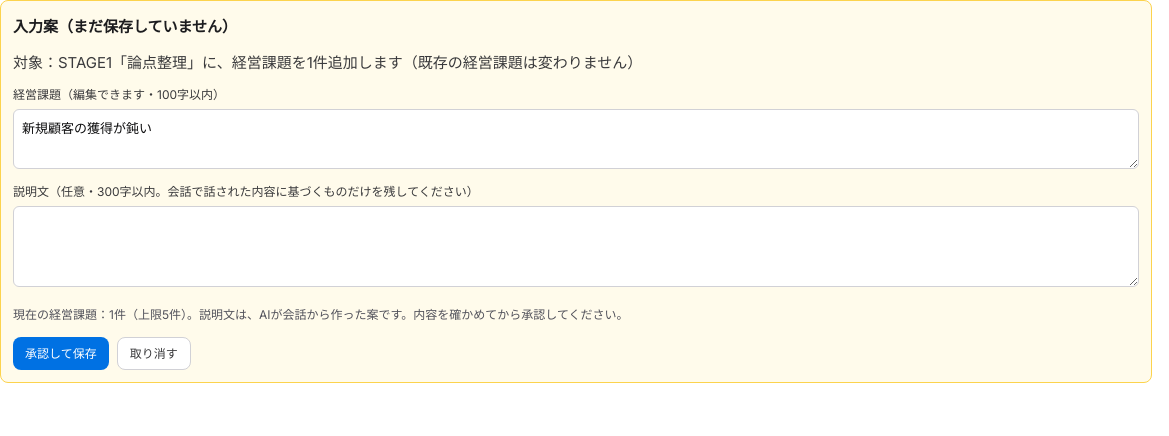
Test: 入力案の承認：STAGE1 経営課題の追加 › 保存に失敗したら、成功と伝えず、入力案を残す
Click the button "承認して保存" at (61, 353), box 13,337 -> 109,370
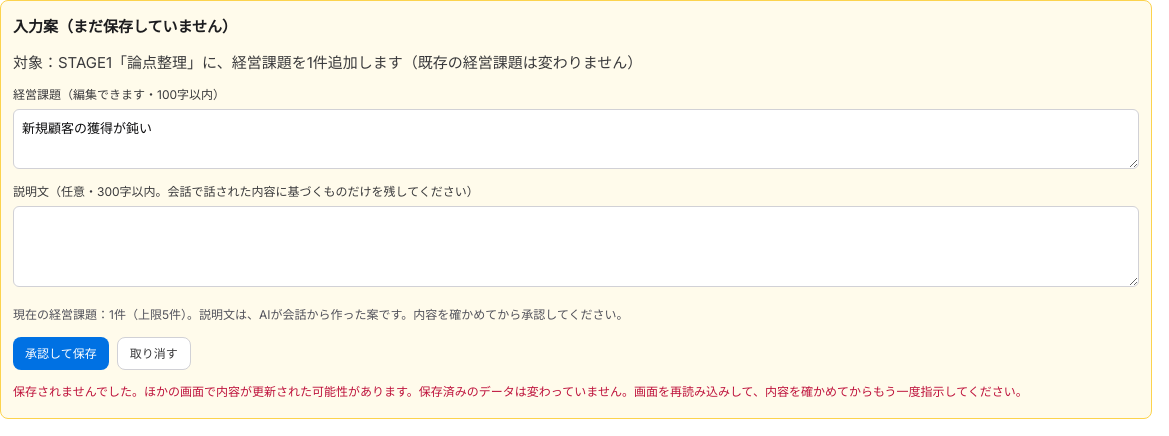
Expected: the text "保存されませんでした。" is shown, 13,384 -> 1028,399
